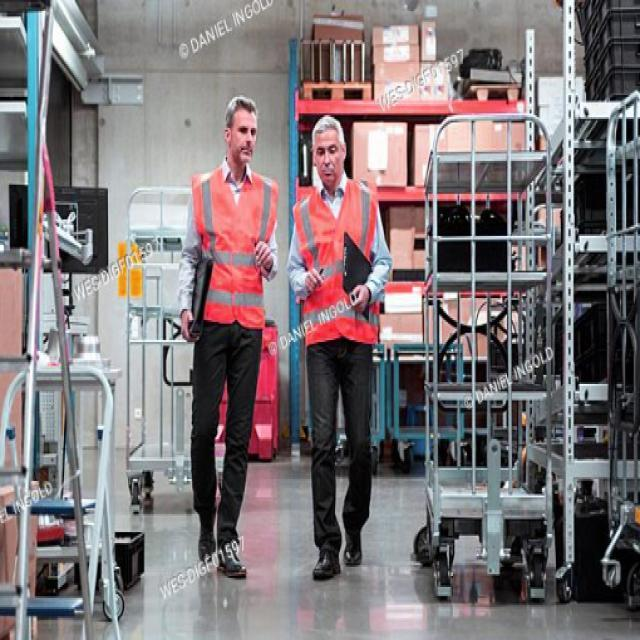boots: (301, 517, 369, 587), (193, 521, 253, 584)
vest: (290, 176, 384, 354), (188, 163, 282, 336)
